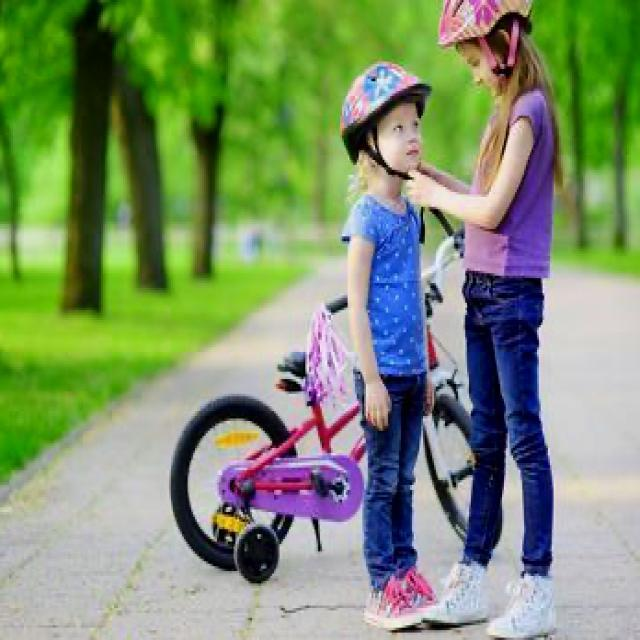Helmet: (338, 49, 442, 187)
